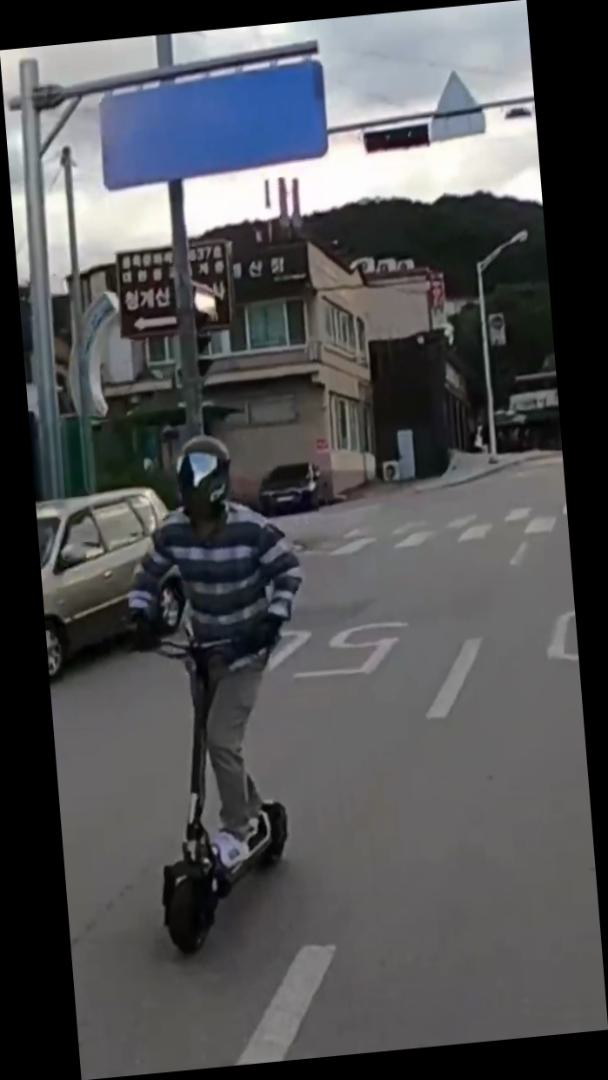helmet: (110, 425, 335, 959)
